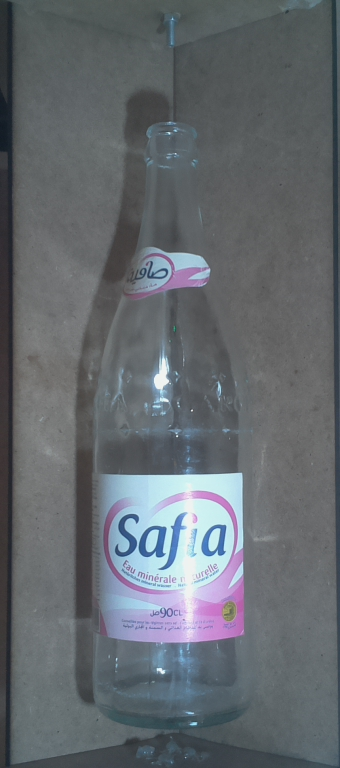Glass: (86, 115, 265, 736)
